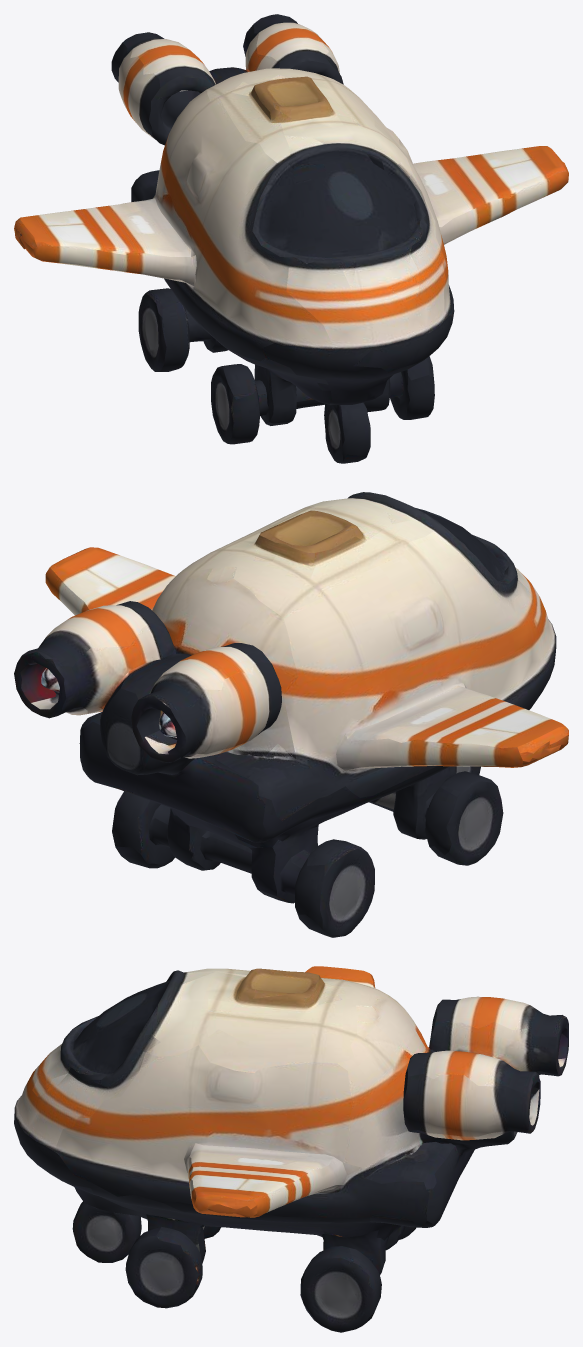
File: shuttle.glb
The picture shows the model from 3 angles, top to bottom: view 1: azimuth 30°, elevation 25°; view 2: azimuth 150°, elevation 25°; view 3: azimuth 270°, elevation 25°; orthographic projection. The views are drawn at different scales.
Parts seen in each view (by area): view 1: shuttle; view 2: shuttle; view 3: shuttle.
Boxes of the visible parts, left/top/right/bottom form: shuttle: left=14, top=14, right=568, bottom=463; shuttle: left=14, top=492, right=568, bottom=937; shuttle: left=14, top=966, right=568, bottom=1332.
Bounding box in the file's own units: 1 × 0.5815 × 0.9892.
Materials: 1 (1 with a texture image).
